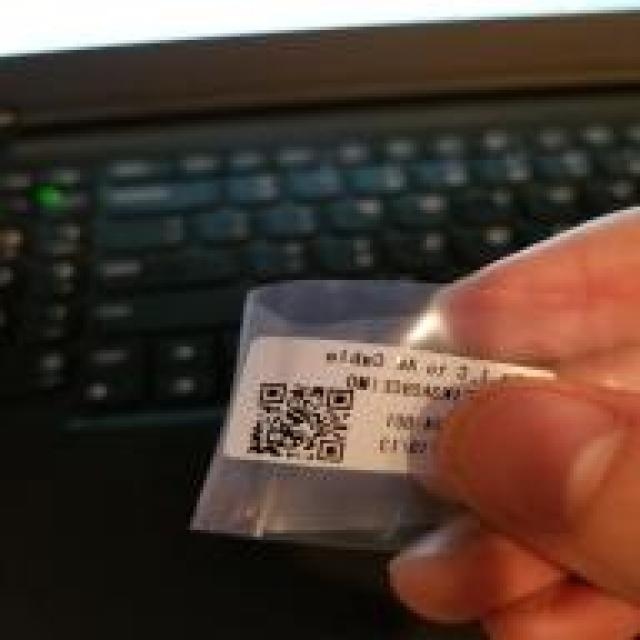QR_CODE: (238, 363, 370, 475)
